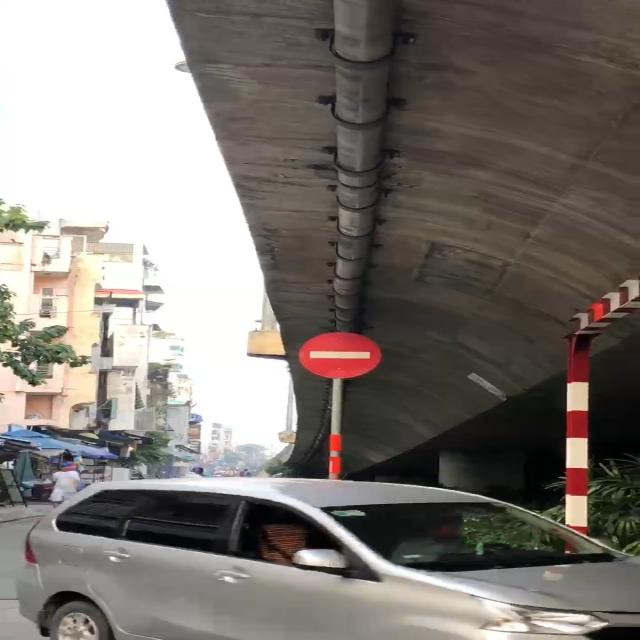Bien bao cam di nguoc chieu: (292, 330, 388, 381)
